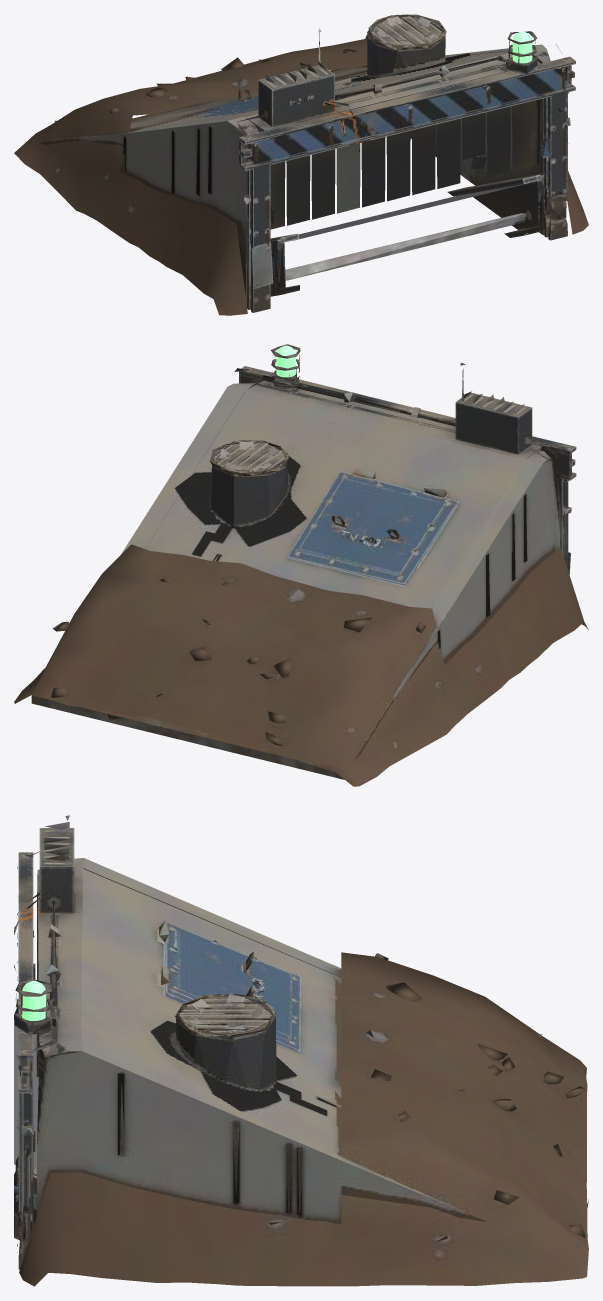
Rendered from esteira_tunel_entrada_expressa.glb.
The picture shows the model from 3 angles, top to bottom: view 1: azimuth 30°, elevation 25°; view 2: azimuth 150°, elevation 25°; view 3: azimuth 270°, elevation 25°; orthographic projection. The views are drawn at different scales.
Visible parts, largest first — view 1: esteira_tunel_entrada_expressa_corpo; view 2: esteira_tunel_entrada_expressa_corpo; view 3: esteira_tunel_entrada_expressa_corpo.
Part boxes in pixels (box(x1,y1,x2,y2)): esteira_tunel_entrada_expressa_corpo: box(14, 14, 588, 315); esteira_tunel_entrada_expressa_corpo: box(14, 344, 588, 786); esteira_tunel_entrada_expressa_corpo: box(14, 815, 588, 1286).
Bounding box in the file's own units: 0.9415 × 0.6062 × 1.
4 materials, 1 textured.
